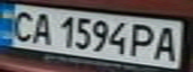1: (51, 12, 75, 48)
4: (106, 19, 133, 56)
5: (72, 15, 93, 52)
9: (87, 17, 112, 53)
A: (151, 24, 184, 62), (27, 10, 57, 46)
C: (3, 7, 39, 43)
P: (127, 20, 160, 58)
